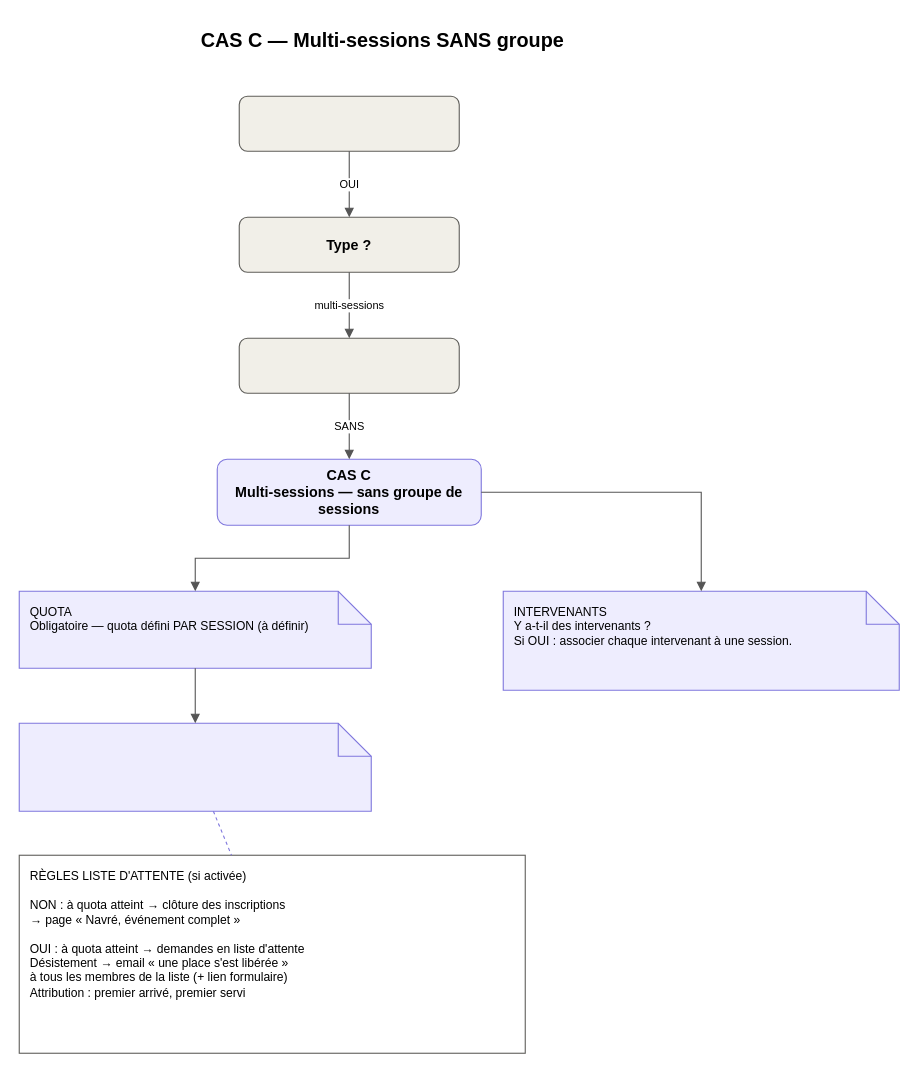
The diagram is 919 pixels wide and 1073 high, and some of its shapes have lost their labels. The centre of each missing label's shape, as x and y in pixels:
Groupe de sessions ?: the point at 348,365
LISTE D'ATTENTE Quota actif → liste d'attente OUI / NON (voir règles ci-dessous): the point at 194,766
Programme ?: the point at 348,123
